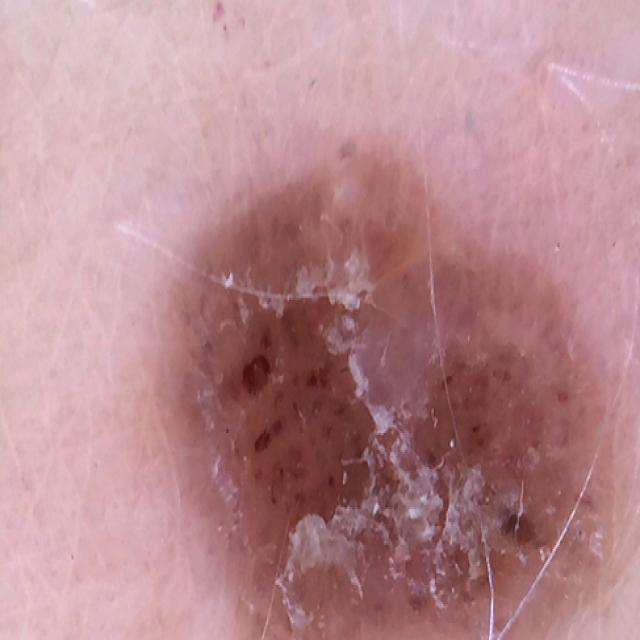Keratosis: (155, 131, 623, 640)
